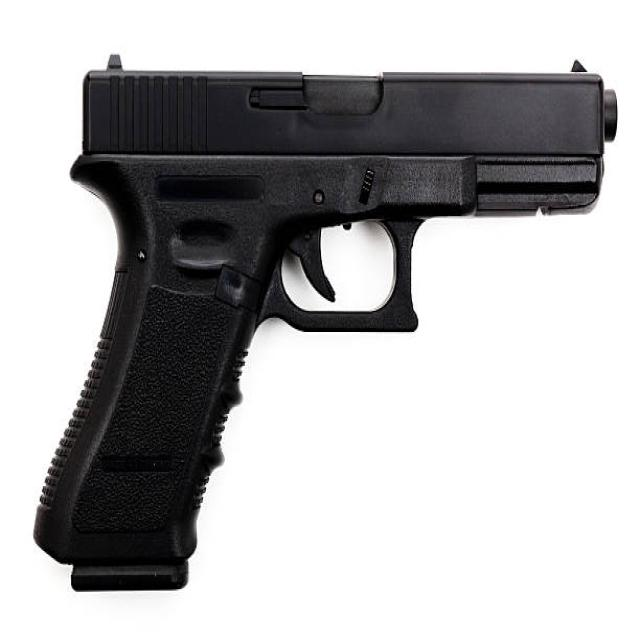pistol: (28, 50, 622, 604)
